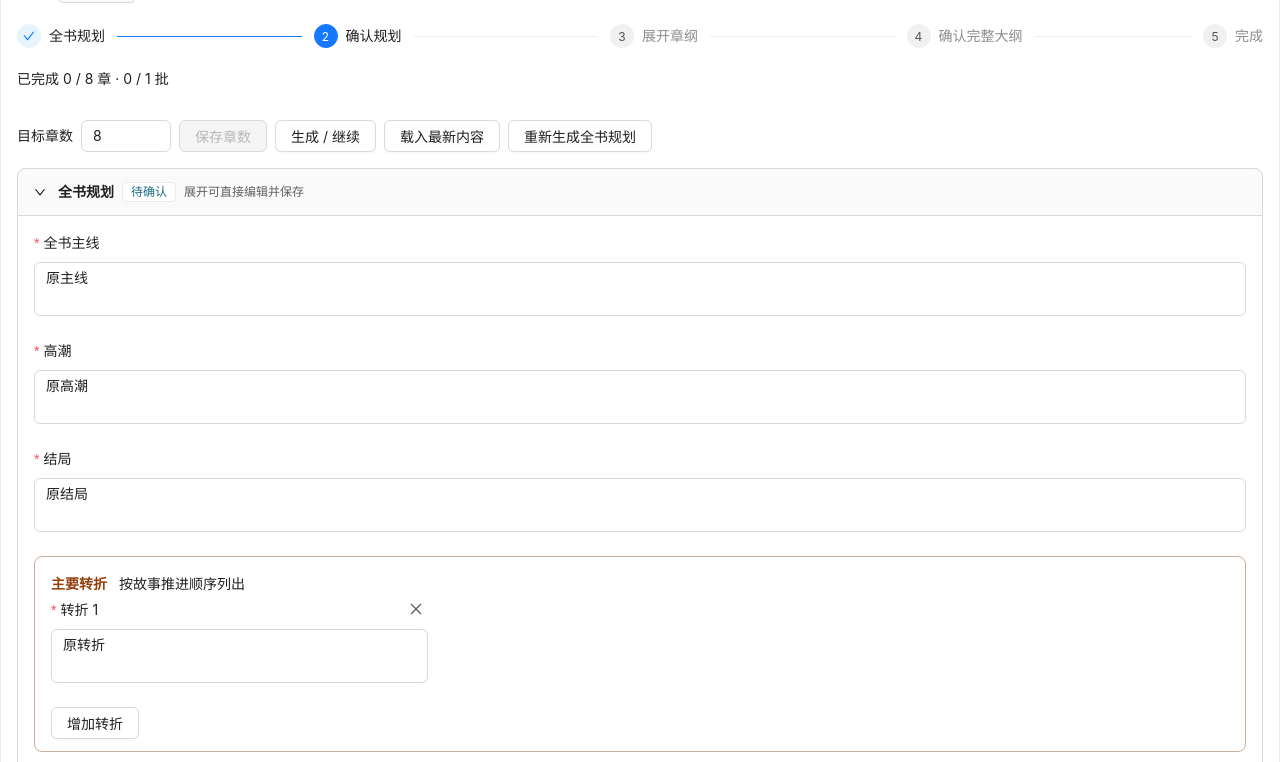
大纲编辑和确认 › 版本冲突保留本地输入并提示核对
Step 1. Replace the text in the text box labelled "全书主线" with "保留输入" → (640, 289), box [34,262,1246,316]
(page scrolled)
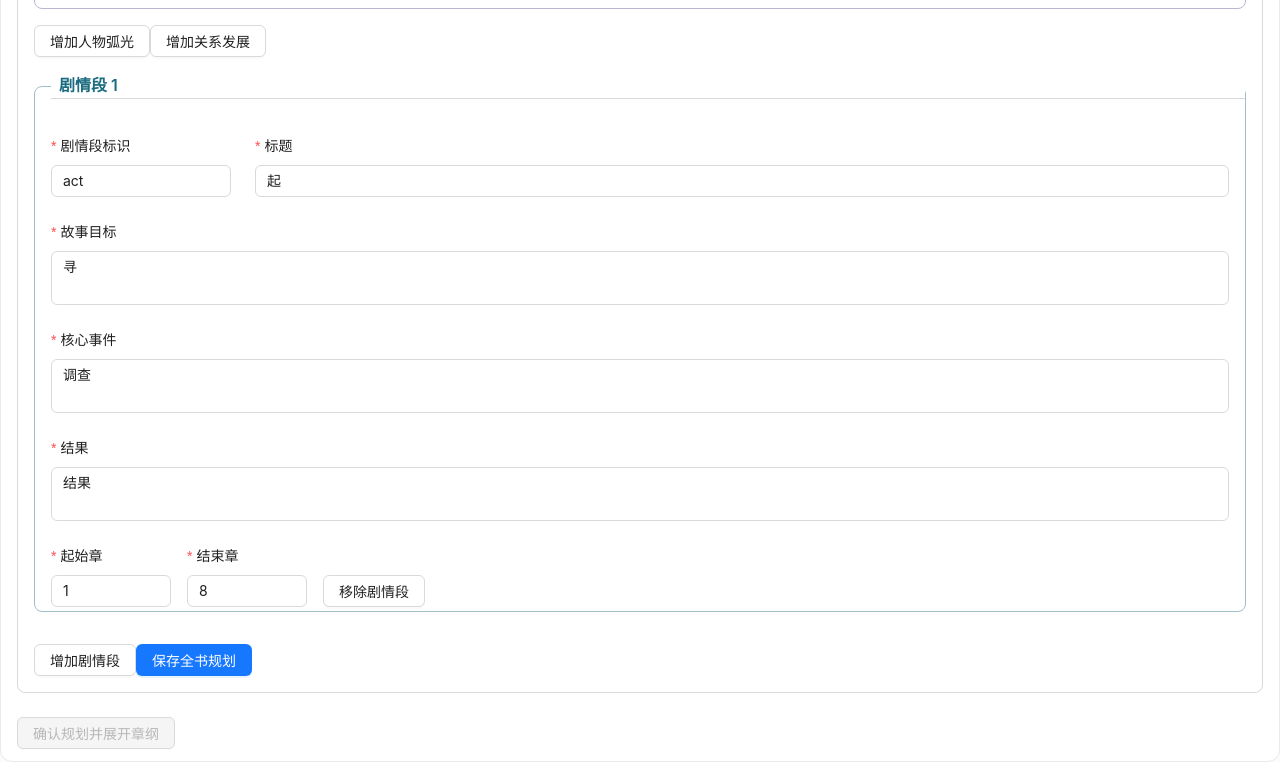
Step 2. Click the button "保存全书规划" → (194, 660), box [136,644,252,676]
(page scrolled)
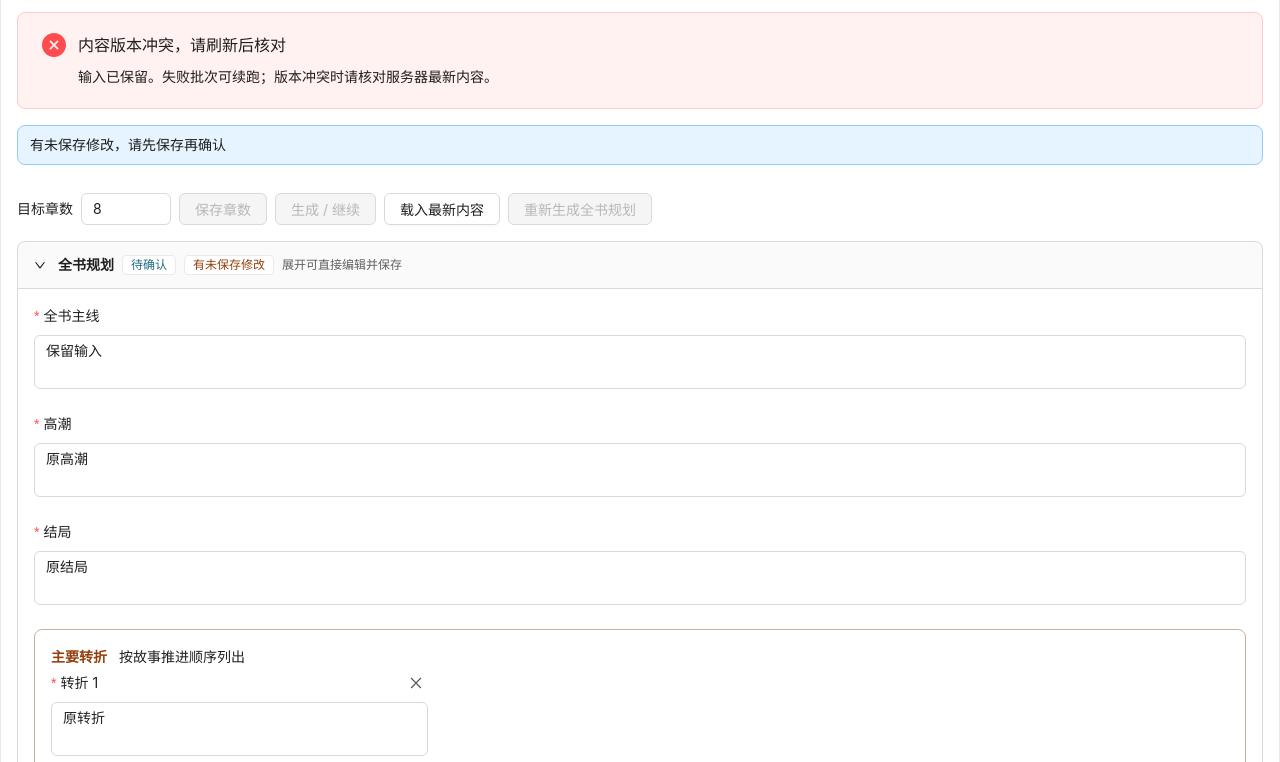
Expected: the text "内容版本冲突，请刷新后核对" is shown, [78,35,286,55]
